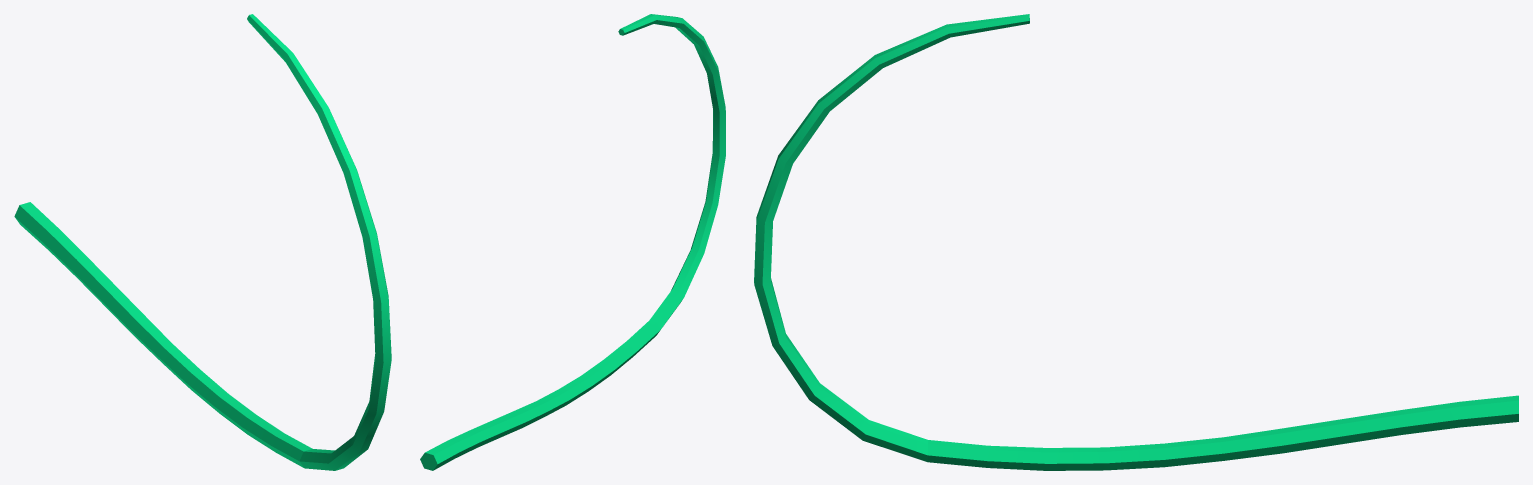
The model's file is Big_Brambles_02.fbx.
3 renders of one model, left to right at view 1: azimuth 30°, elevation 25°; view 2: azimuth 150°, elevation 25°; view 3: azimuth 270°, elevation 25°, orthographic. The views are drawn at different scales.
Parts seen in each view (by area): view 1: Big_Brambles_02; view 2: Big_Brambles_02; view 3: Big_Brambles_02.
Part boxes in pixels (x1,y1,x2,y2): Big_Brambles_02: [14, 14, 391, 470]; Big_Brambles_02: [420, 14, 725, 470]; Big_Brambles_02: [754, 14, 1518, 470].
Size of the model in its own units: 31.2 by 507 by 784.
